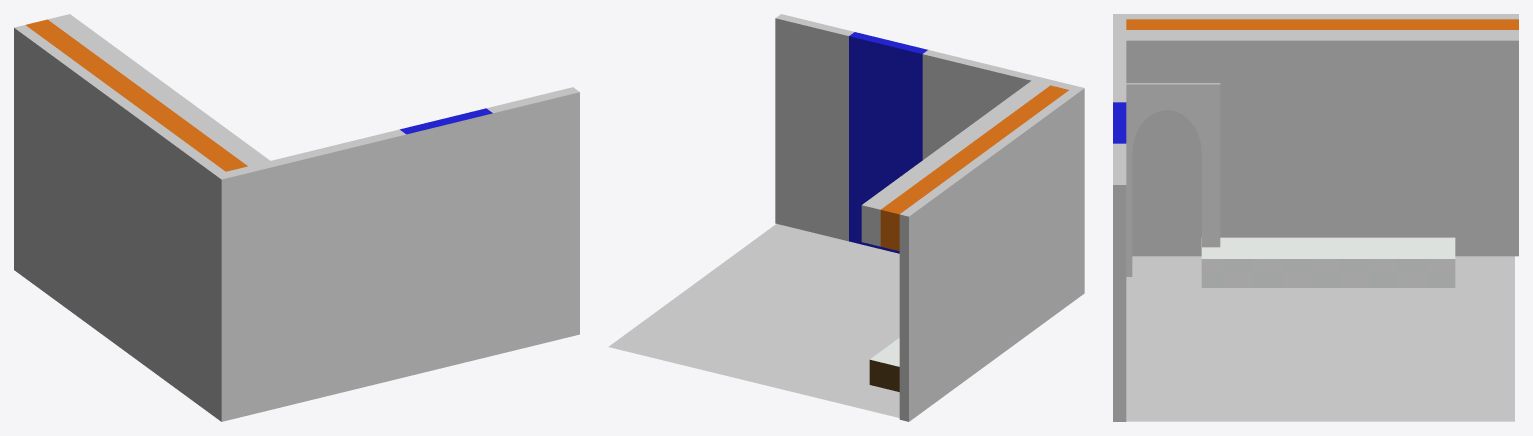
The model's file is slb_internal.glb.
3 views of the same model, side by side, from view 1: azimuth 30°, elevation 25°; view 2: azimuth 150°, elevation 25°; view 3: azimuth 270°, elevation 25° (orthographic). The views are drawn at different scales.
Parts seen in each view (by area): view 1: 立方体; view 2: 立方体, 平面, 立方体.001; view 3: 立方体, 平面, 立方体.001, 圆环.
Boxes of the visible parts, box(x1,y1,x2,y2) form: 立方体: box(14, 14, 579, 421); 立方体: box(775, 14, 1084, 421); 平面: box(608, 224, 899, 417); 立方体.001: box(869, 338, 899, 391); 立方体: box(1113, 14, 1518, 421); 平面: box(1126, 256, 1514, 421); 立方体.001: box(1201, 237, 1455, 287); 圆环: box(1126, 83, 1220, 276).
Size of the model in its own units: 16.01 by 10.35 by 16.06.
